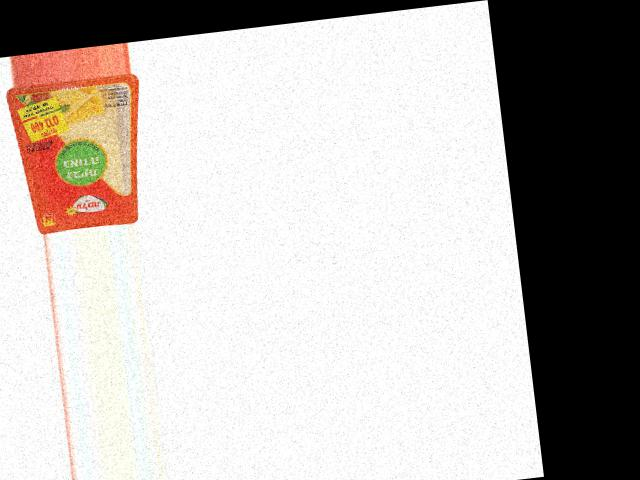cheese: (4, 72, 154, 235)
